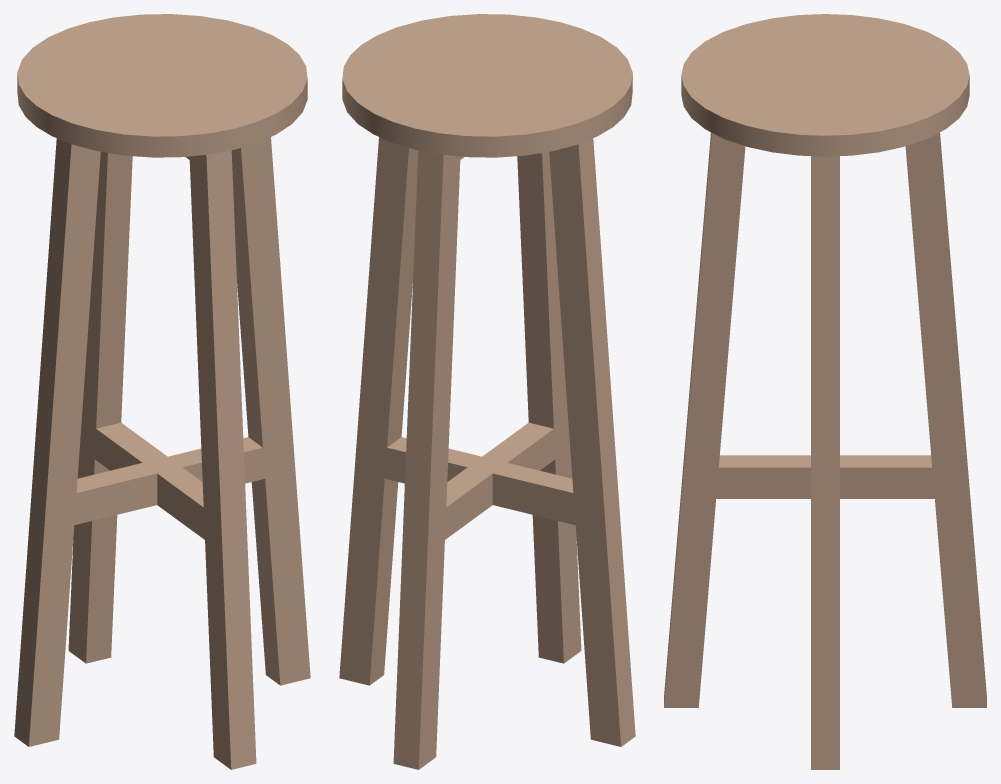
File: 649_スツール.glb
3 renders of one model, left to right at view 1: azimuth 30°, elevation 25°; view 2: azimuth 150°, elevation 25°; view 3: azimuth 270°, elevation 25°, orthographic.
Parts seen in each view (by area): view 1: Body1; view 2: Body1; view 3: Body1.
Boxes of the visible parts, bbox=[...] form: Body1: bbox=[14, 14, 310, 769]; Body1: bbox=[339, 14, 635, 769]; Body1: bbox=[664, 14, 986, 769].
Bounding box in the file's own units: 0.28 × 0.6 × 0.28.
